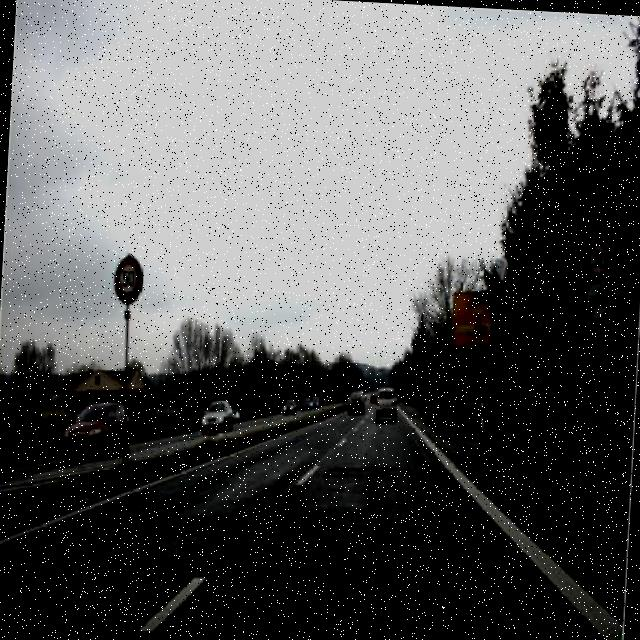Ograniczenie predkosci do 50: (114, 253, 144, 302), (586, 238, 612, 282)
